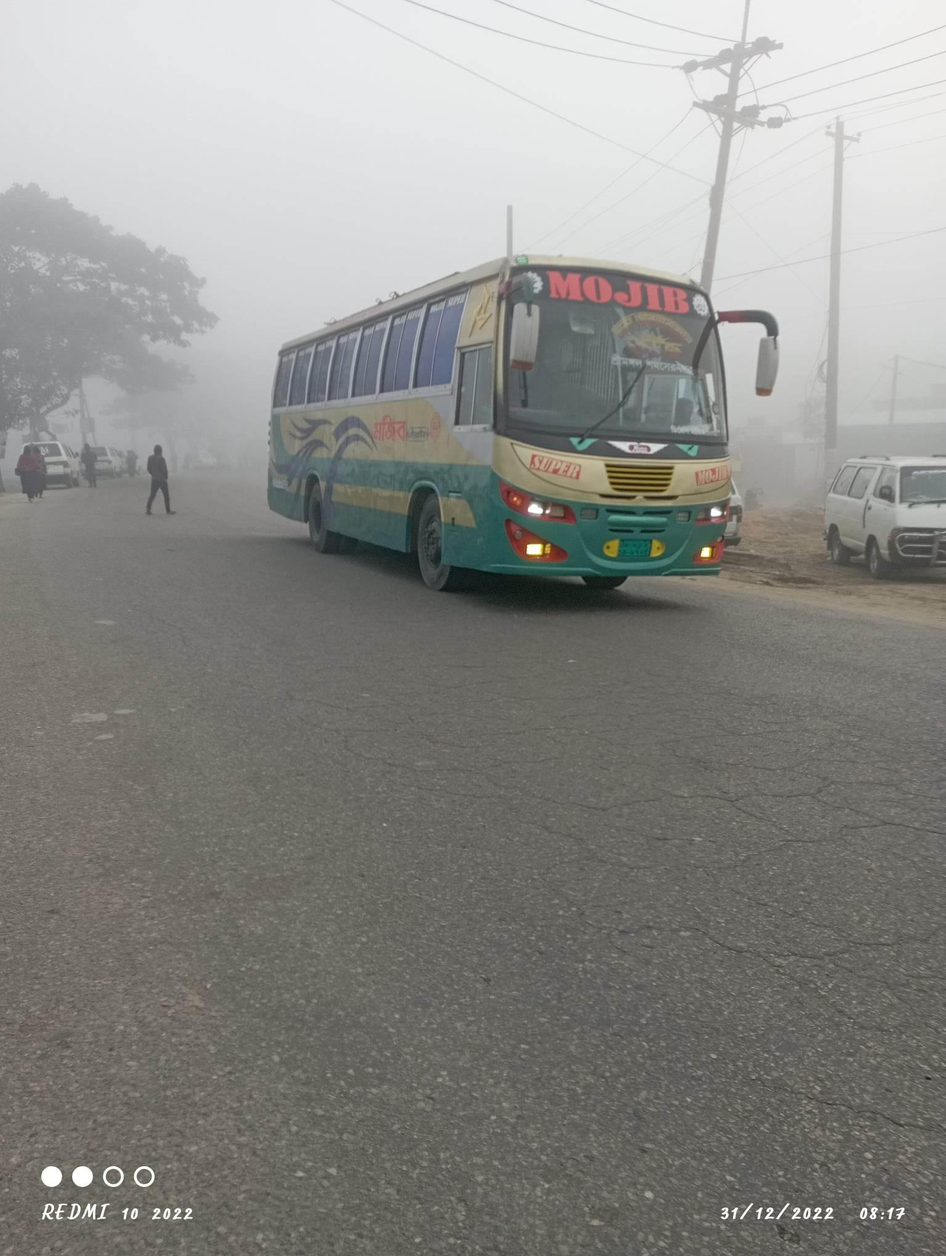Bus: (251, 243, 822, 625)
Car: (823, 447, 946, 607), (22, 437, 86, 496), (91, 439, 128, 484)
